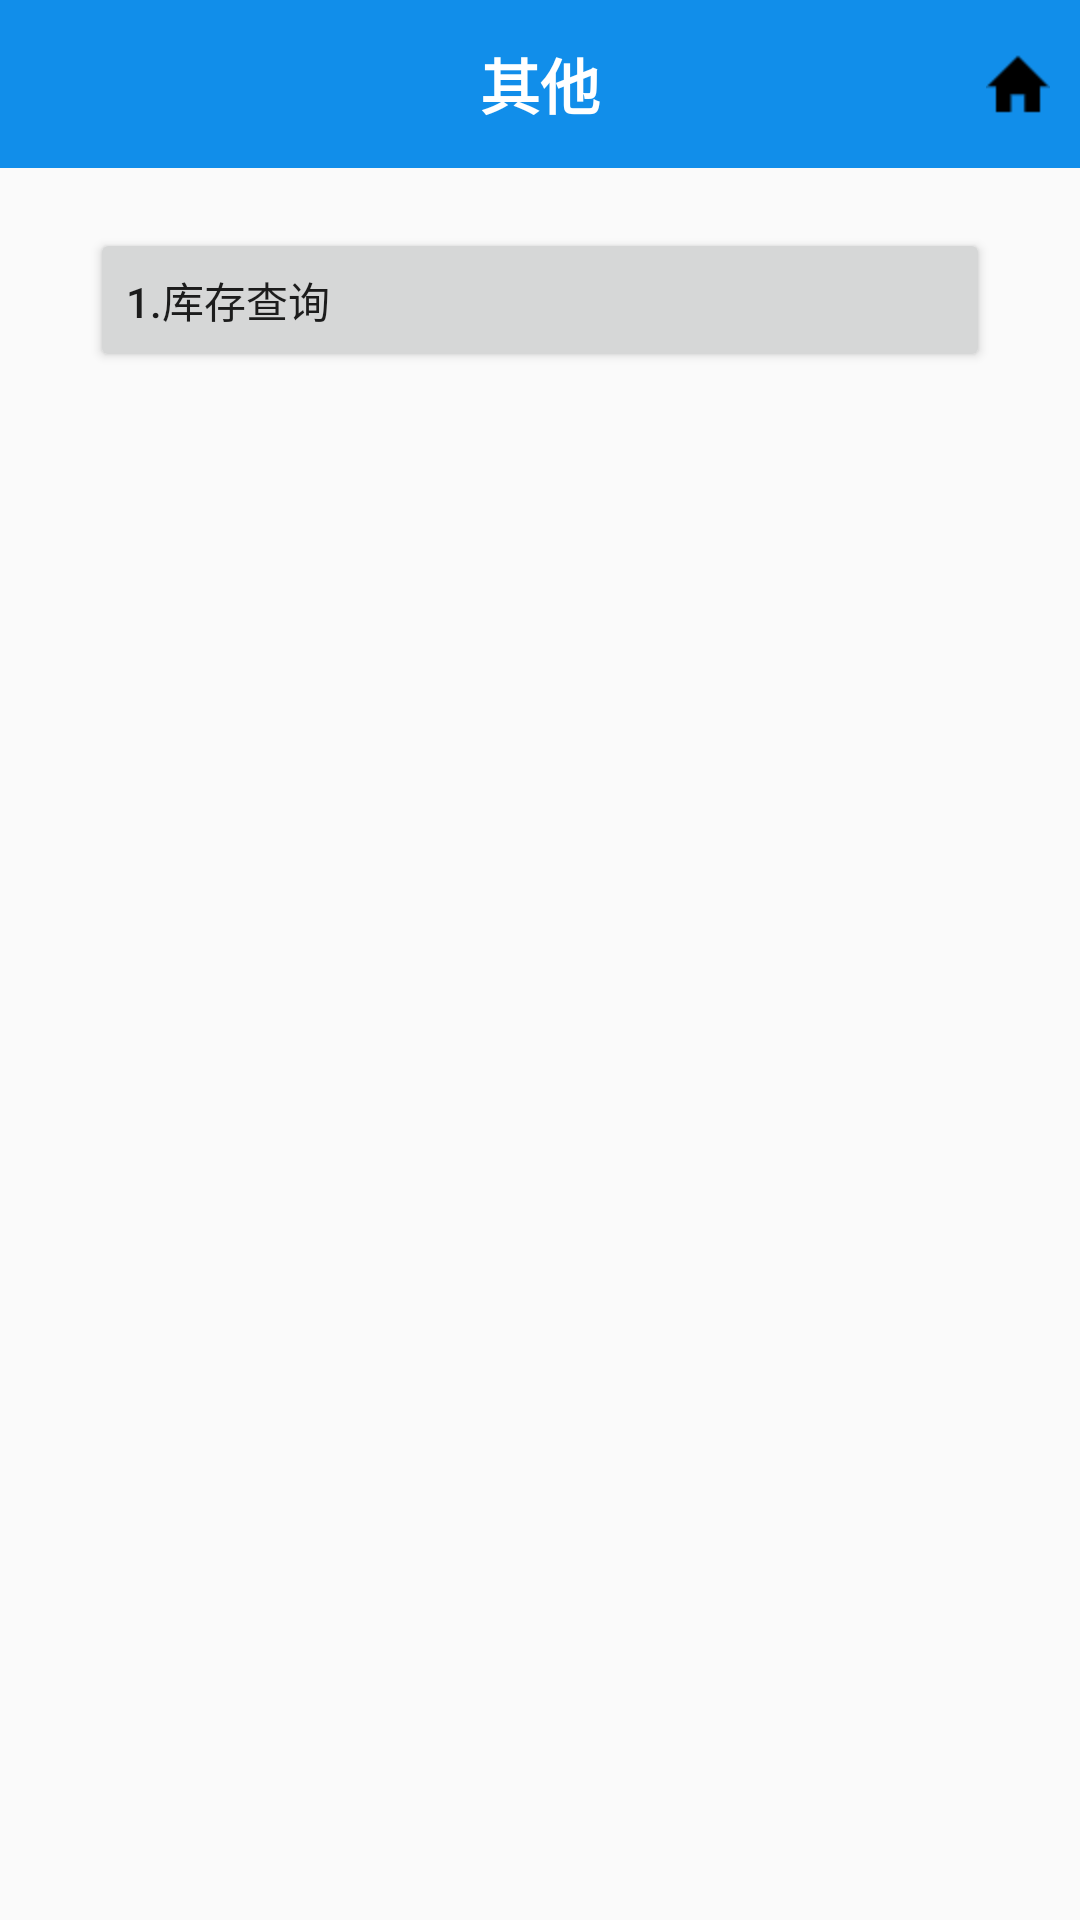

Icon click points for this 1080 × 1920 phone screenshot, format point (x, y):
home: point (1018, 84)
